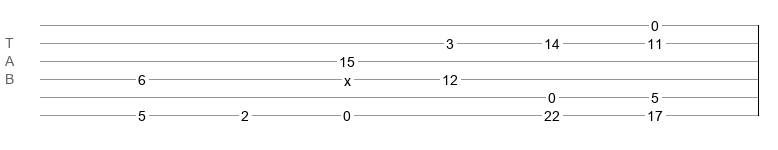0: (343, 108, 351, 118), (548, 90, 556, 100), (651, 18, 659, 28)
11: (647, 36, 663, 46)
12: (442, 72, 458, 82)
14: (544, 36, 560, 46)
15: (339, 54, 355, 64)
17: (647, 108, 663, 118)
2: (241, 108, 249, 118)
22: (544, 108, 560, 118)
3: (446, 36, 454, 46)
5: (138, 108, 146, 118), (651, 90, 659, 100)
6: (138, 72, 146, 82)
x: (344, 73, 351, 81)
